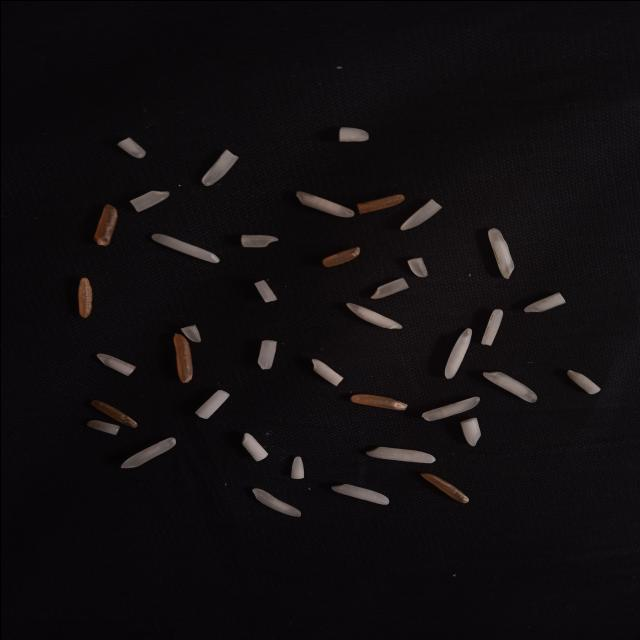Broken: (420, 472, 469, 503), (421, 396, 481, 420), (252, 487, 300, 516), (399, 198, 442, 230), (90, 398, 136, 426), (92, 203, 116, 246), (194, 388, 228, 418), (172, 332, 192, 382), (522, 291, 566, 313), (356, 193, 404, 213), (96, 352, 136, 376), (348, 392, 406, 408), (129, 190, 169, 212), (370, 277, 410, 299), (566, 369, 600, 393), (480, 308, 502, 345), (321, 246, 359, 266), (242, 432, 268, 460), (256, 339, 278, 369), (459, 416, 480, 446), (117, 137, 146, 158), (77, 276, 91, 318), (254, 279, 278, 301), (86, 418, 119, 434), (240, 234, 278, 246), (406, 256, 428, 276), (339, 127, 368, 141), (180, 324, 200, 342), (290, 455, 304, 478)
Full: (150, 232, 220, 262), (481, 370, 536, 402), (120, 437, 176, 468), (345, 300, 402, 328), (295, 190, 353, 217), (444, 326, 472, 378), (487, 227, 513, 279), (201, 148, 237, 185), (331, 483, 388, 504), (365, 446, 435, 462), (309, 358, 342, 384)
